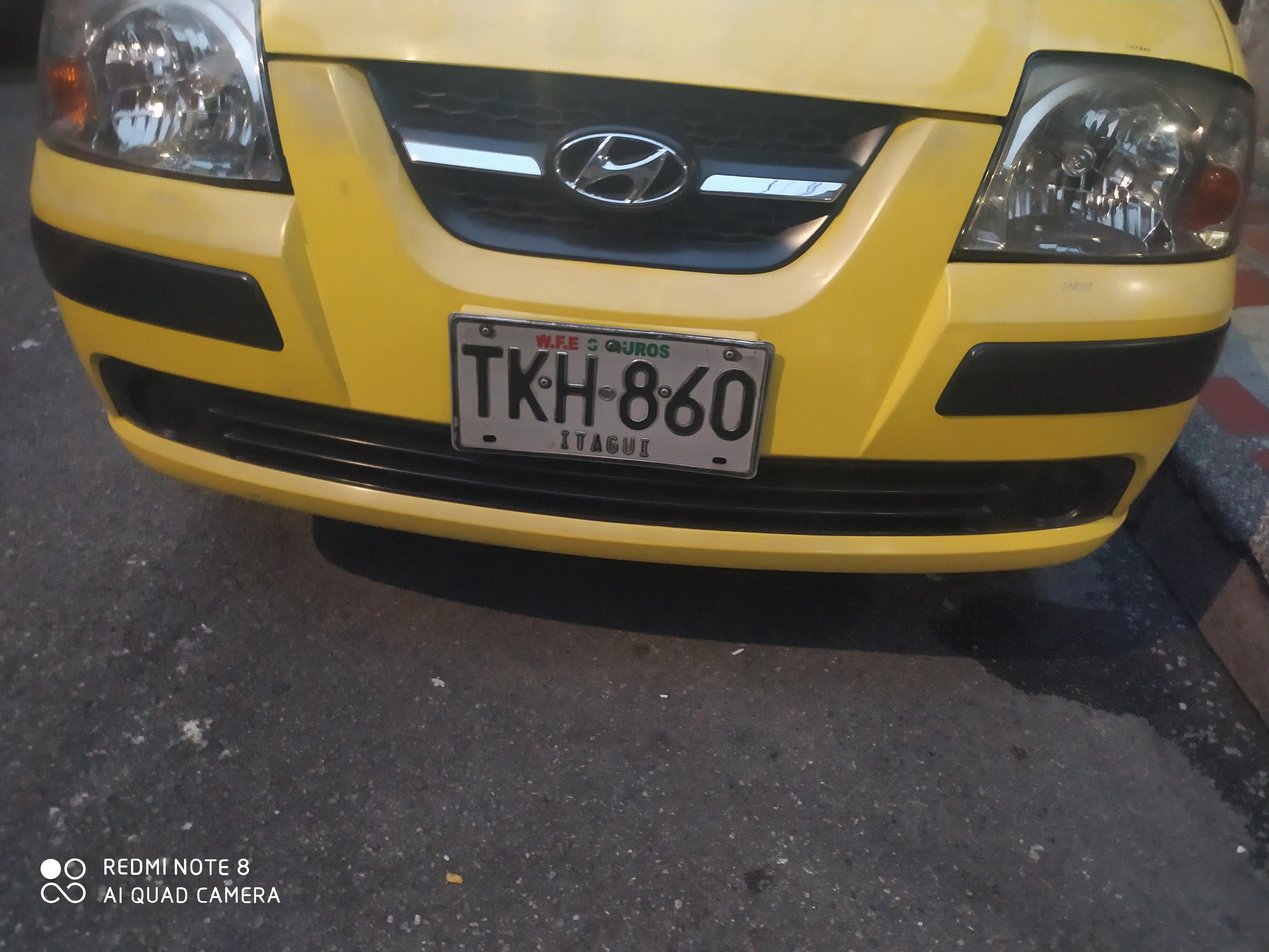placa: (434, 304, 778, 489)
